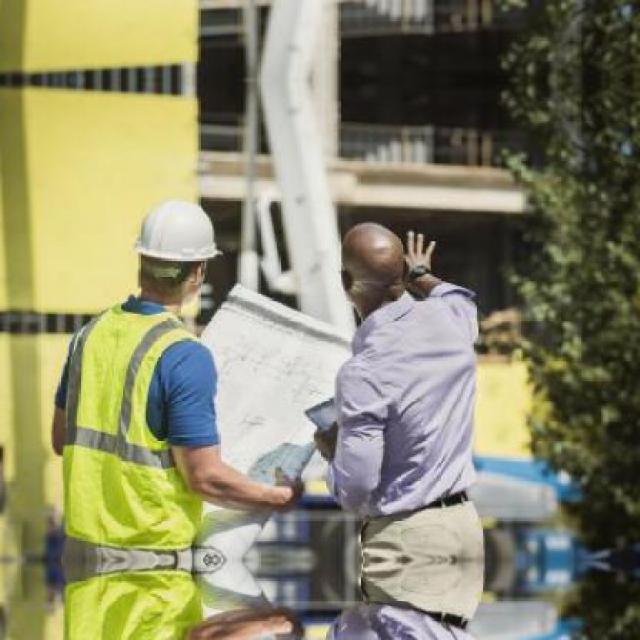Reflective-Jacket: (39, 298, 211, 556)
Safety-Helmet: (123, 192, 226, 271)
